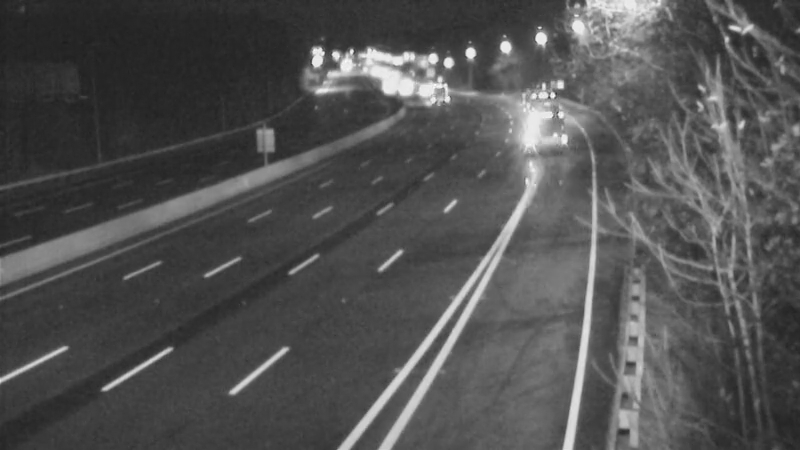vehicle: (391, 64, 441, 114), (508, 72, 558, 122), (416, 69, 466, 119), (528, 96, 578, 146)
